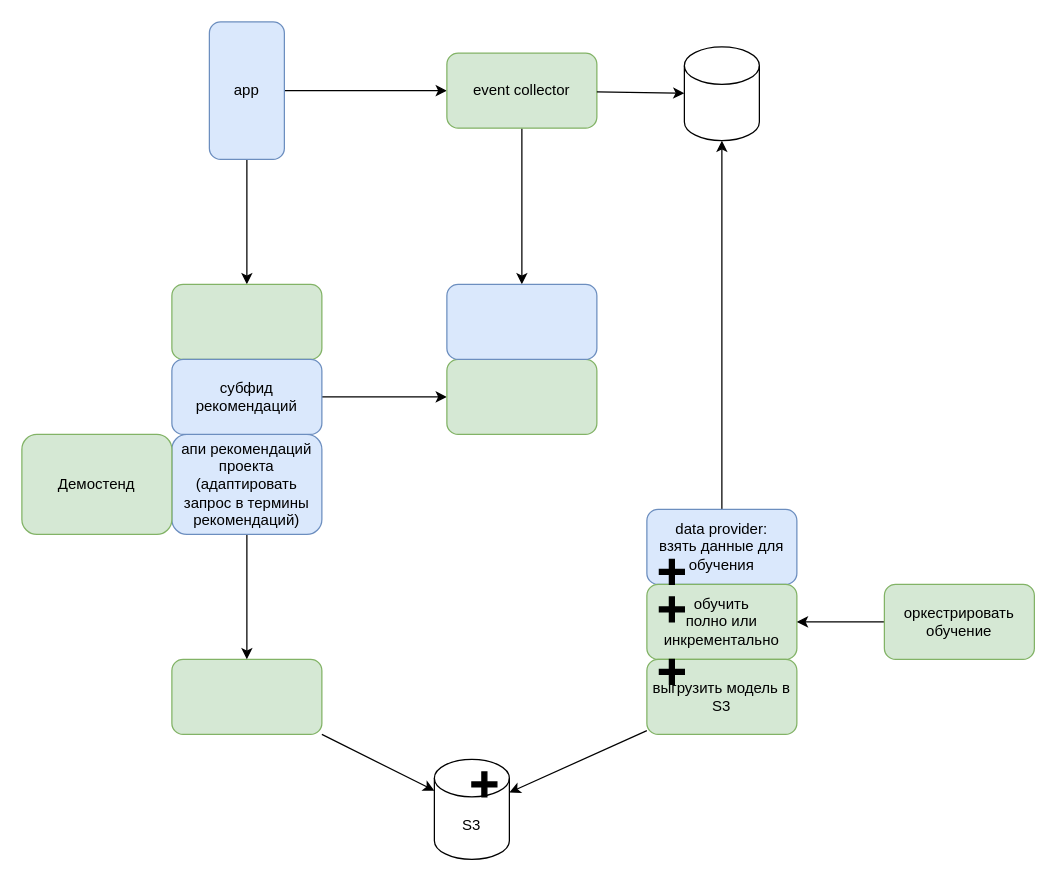
Some shapes in this 1056 by 881 pixel diagram are drawn without their labels. Here are the shapes that lost their labels. From the top down, the centre of each, then its label:
point (721, 93): dwh
point (246, 321): smartfeed
point (521, 321): адаптер событий к профилю
point (521, 396): realtime profile
point (246, 696): загрузить и засервить модель рекомендаций
